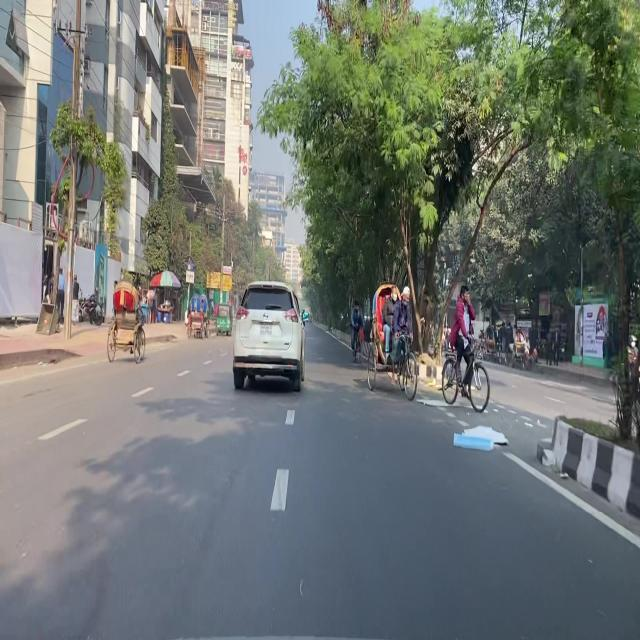car: (232, 279, 310, 395)
motorbike: (71, 286, 106, 328)
